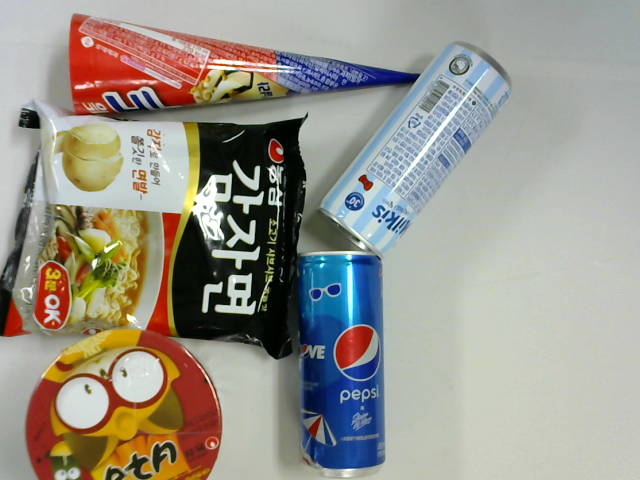Milkies_250ml: (323, 38, 516, 255)
Pepsi_Cola_Can_250ml: (295, 256, 394, 474)
Potato: (5, 109, 307, 353)
Raccoon: (25, 331, 222, 480)
World_Cone_Banila: (64, 12, 436, 112)
